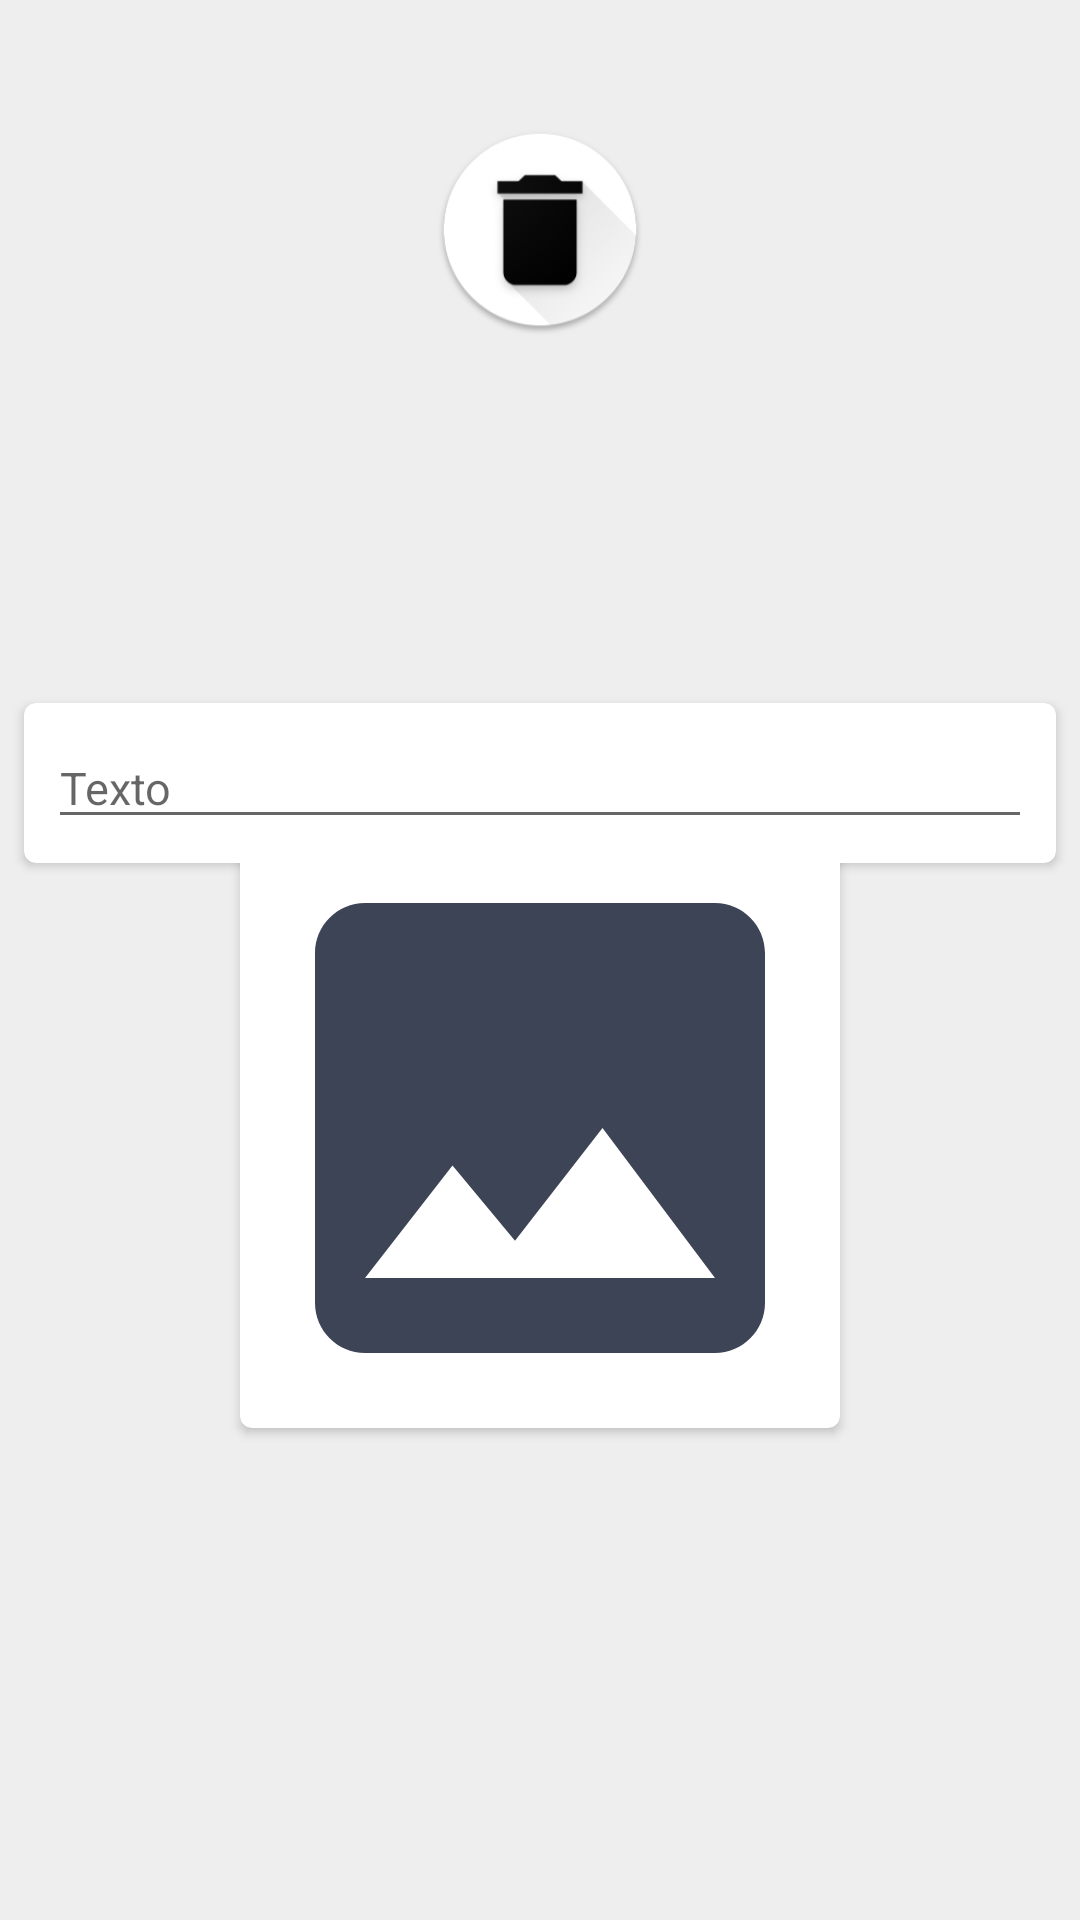

Named icons in this screenshot (1080 x 1920) and their bounding boxes, [x1, y1, x2, y2]:
limpa: [442, 174, 638, 331]
